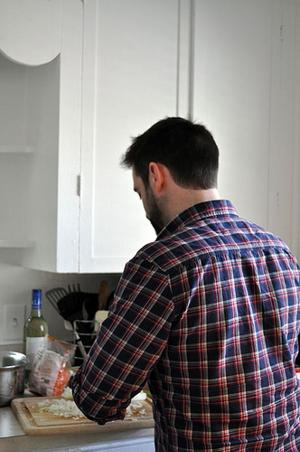person: (70, 116, 300, 452)
